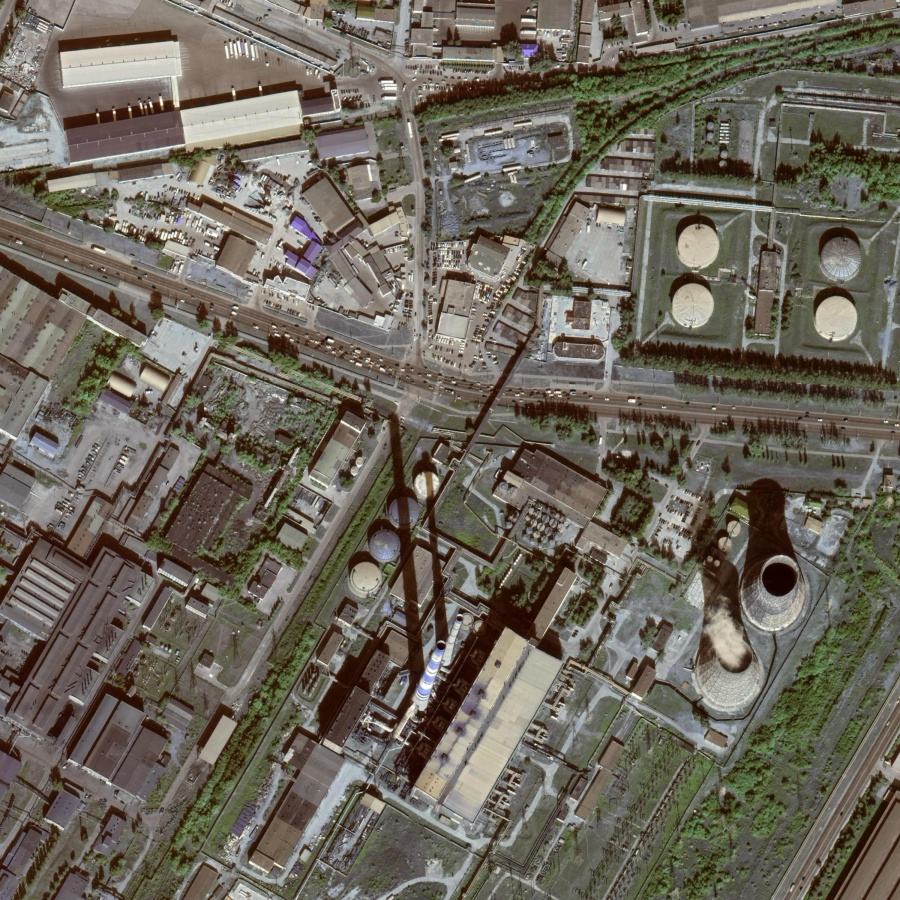PowerPlant: (330, 375, 819, 752)
